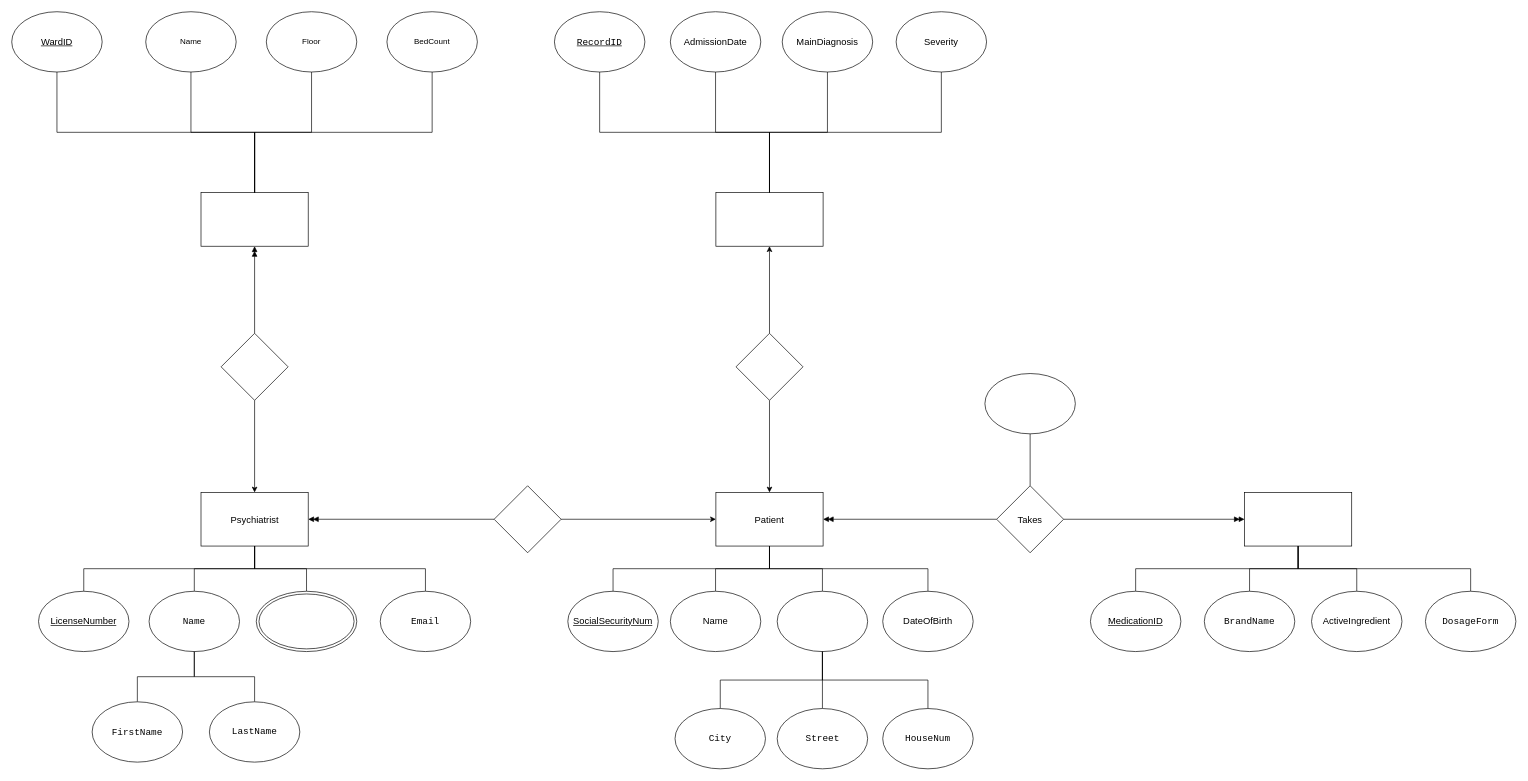
The diagram is 1528 pixels wide and 781 high, and some of its shapes have lost their labels. Here are the shapes that lost their labels. From the top down, the centre of each, then its label:
point (254, 219): Ward
point (769, 219): MedicalRecord
point (254, 366): Employs
point (769, 366): Has
point (1029, 403): DailyDosage
point (527, 519): Treats
point (1298, 519): Medication
point (306, 621): PhoneNumber
point (822, 621): Address
